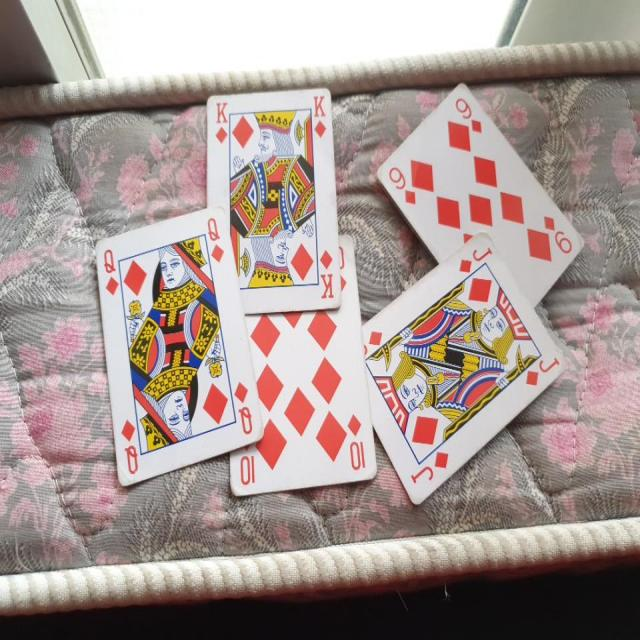10 Diamonds: (229, 236, 377, 498)
9 Diamonds: (374, 76, 583, 306)
J Diamonds: (361, 231, 568, 504)
K Diamonds: (205, 85, 344, 315)
Q Diamonds: (94, 205, 265, 488)
